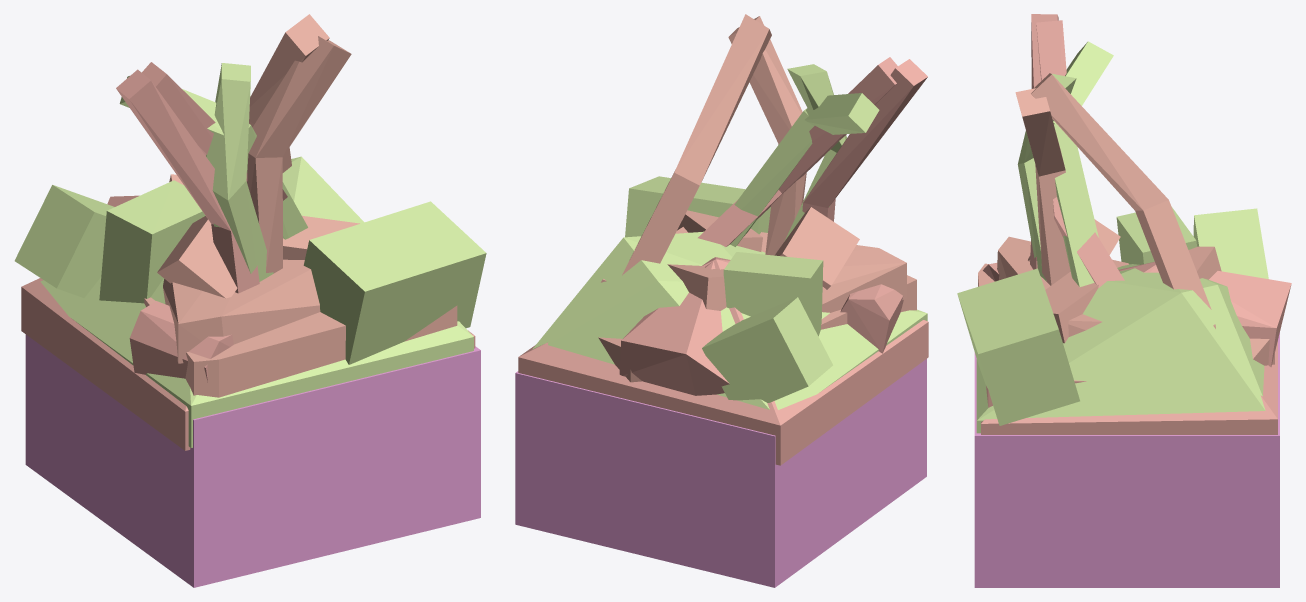
File: fob.glb
The picture shows the model from 3 angles, left to right: view 1: azimuth 30°, elevation 25°; view 2: azimuth 150°, elevation 25°; view 3: azimuth 270°, elevation 25°; orthographic projection. The views are drawn at different scales.
Visible parts, largest first — view 1: S1|SM_Foundation_FOB#0, S7|SM_FOB_Destroyed_Valkyra#0, S5|SM_FOB_Destroyed_Lonestar#0, S6|SM_FOB_Destroyed_Manticore#0; view 2: S1|SM_Foundation_FOB#0, S7|SM_FOB_Destroyed_Valkyra#0, S6|SM_FOB_Destroyed_Manticore#0, S5|SM_FOB_Destroyed_Lonestar#0; view 3: S7|SM_FOB_Destroyed_Valkyra#0, S1|SM_Foundation_FOB#0, S5|SM_FOB_Destroyed_Lonestar#0, S6|SM_FOB_Destroyed_Manticore#0.
Part boxes in pixels (left/top/right/bottom): S1|SM_Foundation_FOB#0: left=25, top=334, right=480, bottom=587; S7|SM_FOB_Destroyed_Valkyra#0: left=14, top=63, right=486, bottom=447; S5|SM_FOB_Destroyed_Lonestar#0: left=144, top=14, right=457, bottom=397; S6|SM_FOB_Destroyed_Manticore#0: left=21, top=62, right=475, bottom=450; S1|SM_Foundation_FOB#0: left=515, top=359, right=926, bottom=587; S7|SM_FOB_Destroyed_Valkyra#0: left=532, top=64, right=927, bottom=409; S6|SM_FOB_Destroyed_Manticore#0: left=518, top=57, right=928, bottom=465; S5|SM_FOB_Destroyed_Lonestar#0: left=598, top=14, right=916, bottom=382; S7|SM_FOB_Destroyed_Valkyra#0: left=957, top=41, right=1268, bottom=433; S1|SM_Foundation_FOB#0: left=974, top=332, right=1279, bottom=587; S5|SM_FOB_Destroyed_Lonestar#0: left=978, top=73, right=1274, bottom=407; S6|SM_FOB_Destroyed_Manticore#0: left=981, top=14, right=1291, bottom=434.
Bounding box in the file's own units: 4.66 × 6.86 × 4.55.
